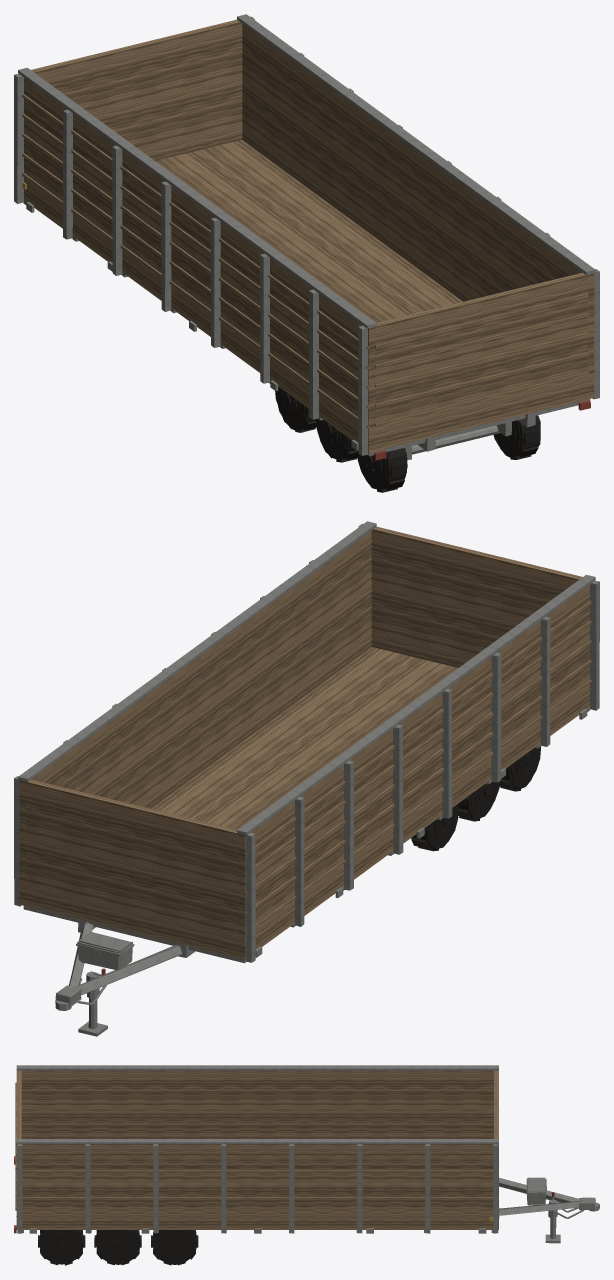
Rendered from large_trailer.glb.
3 views of the same model, one above another, from view 1: azimuth 30°, elevation 25°; view 2: azimuth 150°, elevation 25°; view 3: azimuth 270°, elevation 25° (orthographic). The views are drawn at different scales.
Visible parts, largest first — view 1: LargeTrailer, Tailgate, Wheel_L3, Wheel_R3, Wheel_L2, Wheel_L1; view 2: LargeTrailer, Tailgate, Wheel_L1, Wheel_L3, Wheel_L2; view 3: LargeTrailer, Wheel_R2, Wheel_R3, Wheel_R1, Tailgate.
Boxes of the visible parts, x1=… form: LargeTrailer: x1=14, y1=14, x2=599, y2=460; Tailgate: x1=375, y1=272, x2=587, y2=444; Wheel_L3: x1=356, y1=448, x2=407, y2=492; Wheel_R3: x1=493, y1=415, x2=540, y2=459; Wheel_L2: x1=316, y1=418, x2=357, y2=462; Wheel_L1: x1=275, y1=387, x2=316, y2=432; LargeTrailer: x1=14, y1=521, x2=599, y2=1036; Tailgate: x1=371, y1=526, x2=582, y2=667; Wheel_L1: x1=411, y1=804, x2=458, y2=851; Wheel_L3: x1=499, y1=746, x2=541, y2=791; Wheel_L2: x1=458, y1=781, x2=499, y2=821; LargeTrailer: x1=14, y1=1065, x2=584, y2=1243; Wheel_R2: x1=94, y1=1230, x2=141, y2=1265; Wheel_R3: x1=38, y1=1230, x2=85, y2=1265; Wheel_R1: x1=151, y1=1230, x2=198, y2=1265; Tailgate: x1=16, y1=1070, x2=21, y2=1138.
Size of the model in its own units: 3.2 by 2.54 by 9.86.
Materials: 5 (4 with a texture image).
